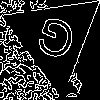G: (29, 13, 80, 71)
